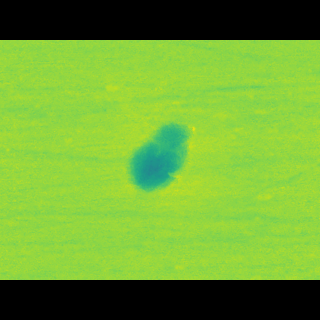Loch: (123, 128, 197, 185)
